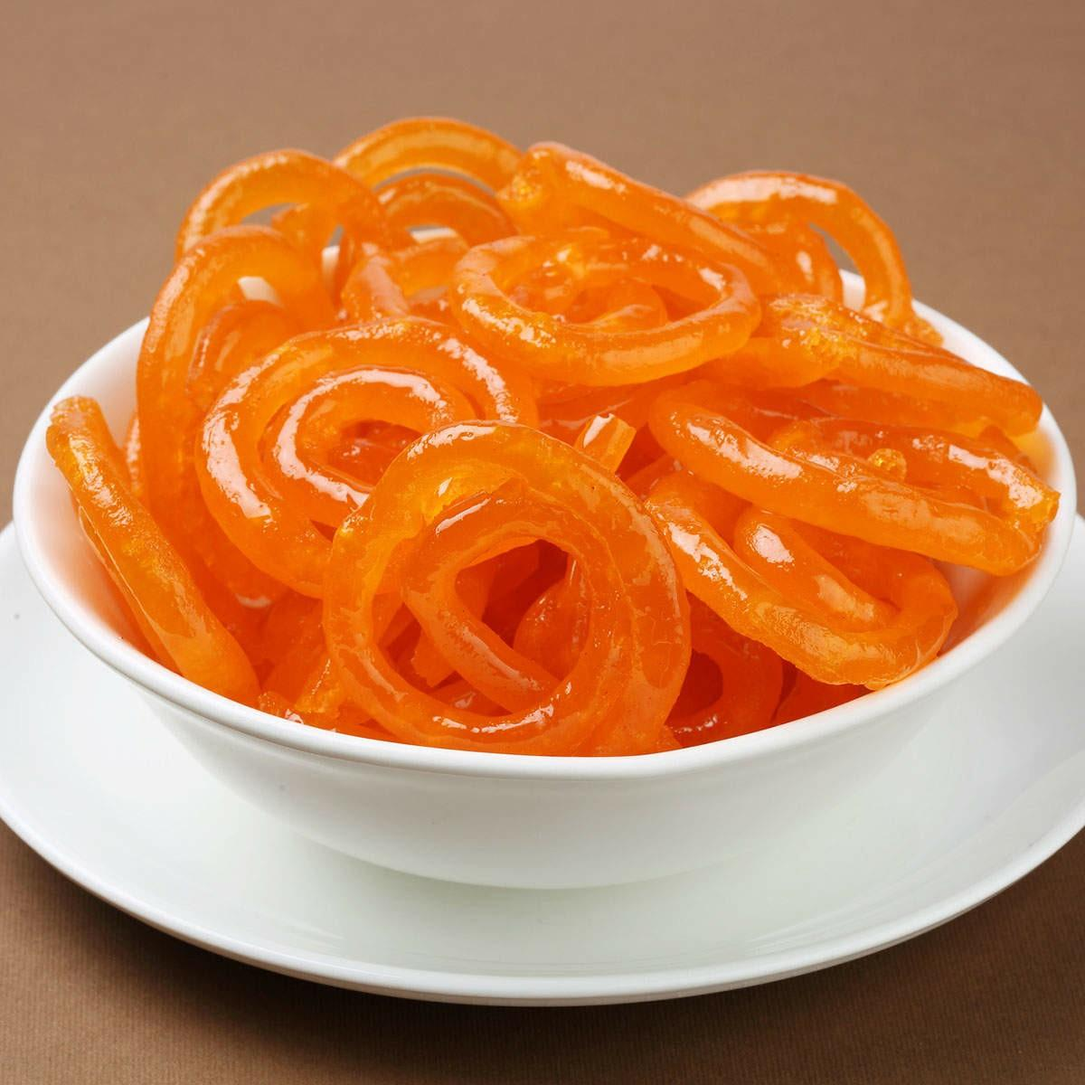Jalebi: (42, 111, 1059, 756)
